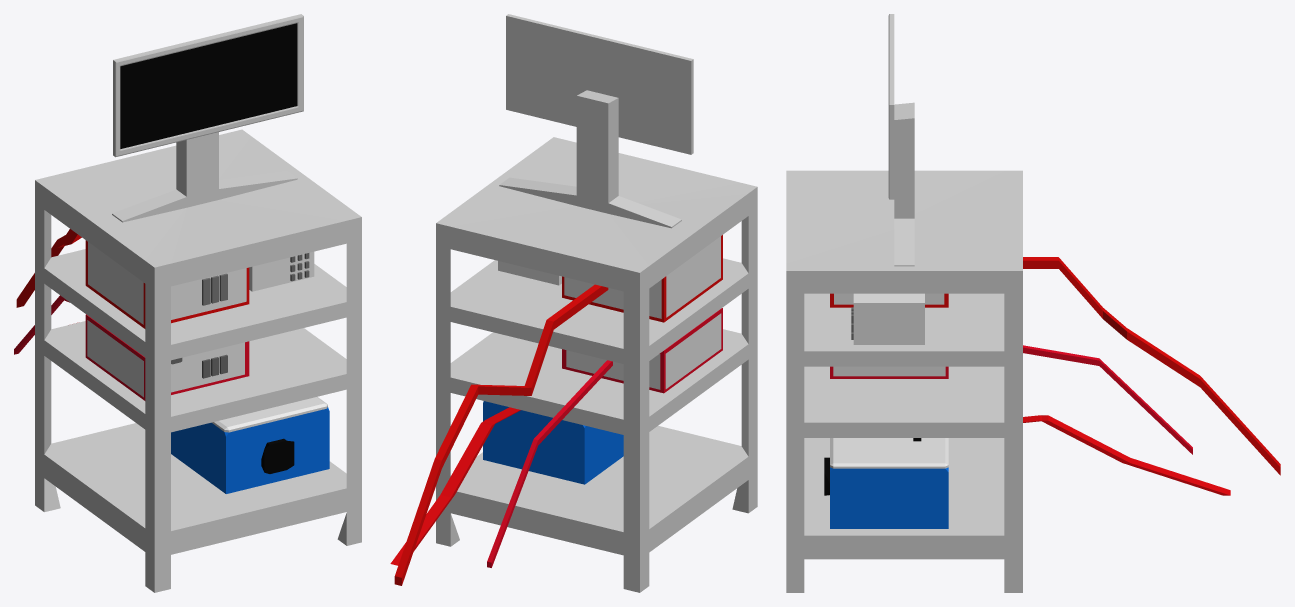
Rendered from stand_2.glb.
3 views of the same model, side by side, from view 1: azimuth 30°, elevation 25°; view 2: azimuth 150°, elevation 25°; view 3: azimuth 270°, elevation 25° (orthographic).
Parts seen in each view (by area): view 1: Cube.001; view 2: Cube.001; view 3: Cube.001.
Boxes of the visible parts, x1=… form: Cube.001: x1=14, y1=14, x2=361, y2=592; Cube.001: x1=390, y1=14, x2=757, y2=592; Cube.001: x1=786, y1=14, x2=1280, y2=592.
Bounding box in the file's own units: 20 × 45.18 × 41.75.
